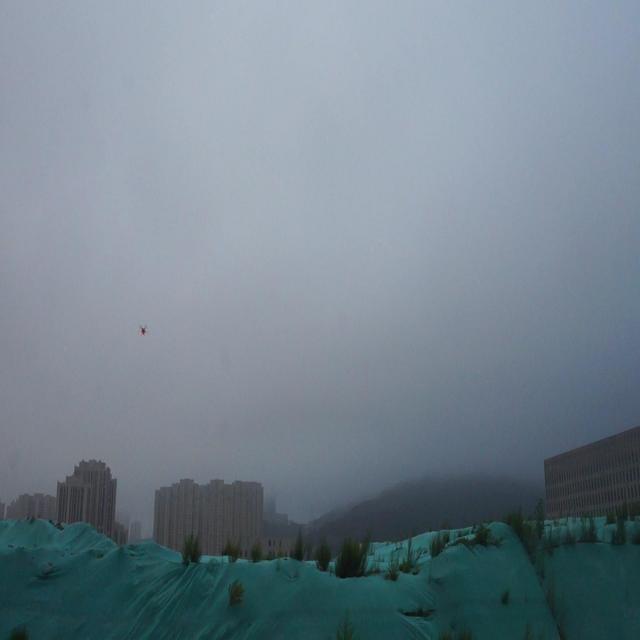UAV: (139, 325, 147, 336)
